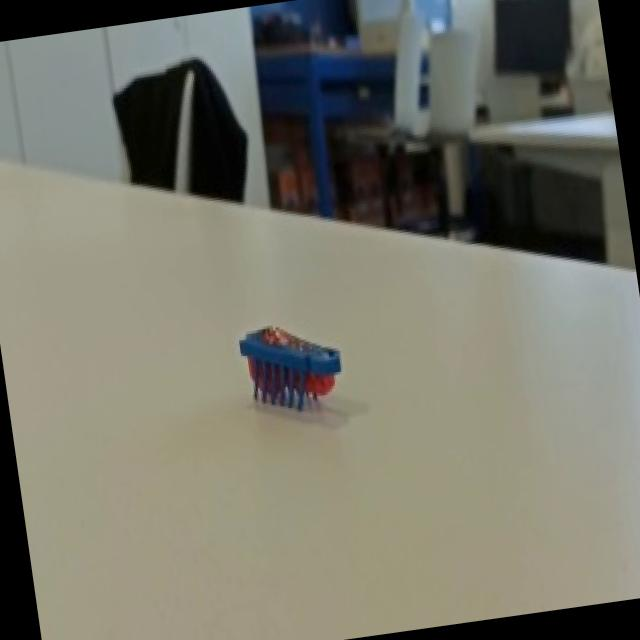1_NanoBug_Azul: (204, 299, 373, 444)
